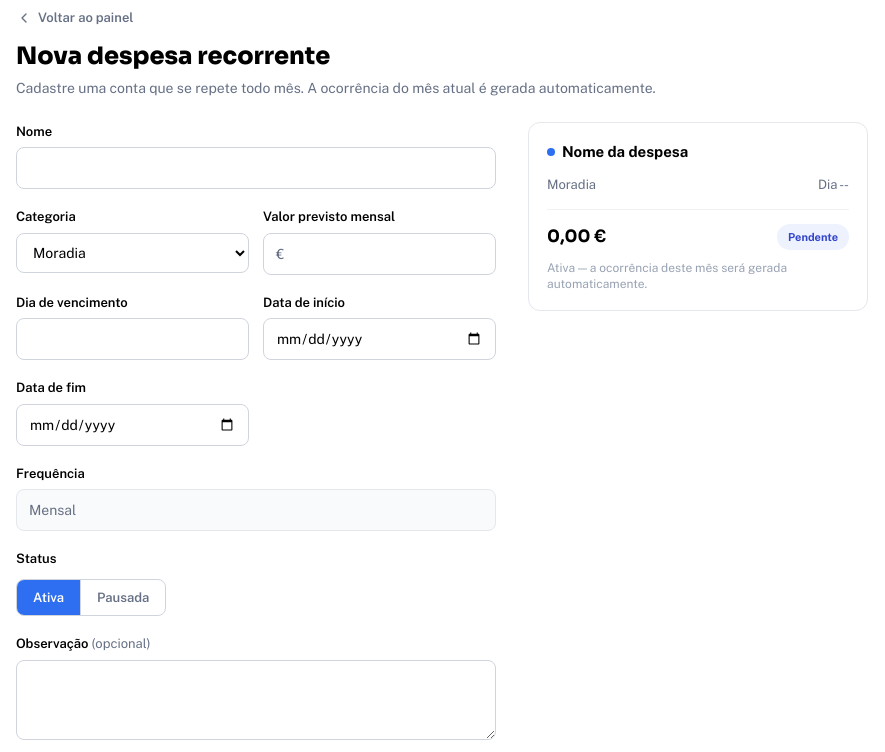
Scenario: CadastroDespesaRecorrenteComponent › populates the nome field inline error from a 400 field-error response (US4-3, FR-016)
Type "Aluguel" into the field with test id "nome-input" at [256, 168], box left=16, top=147, right=496, bottom=189
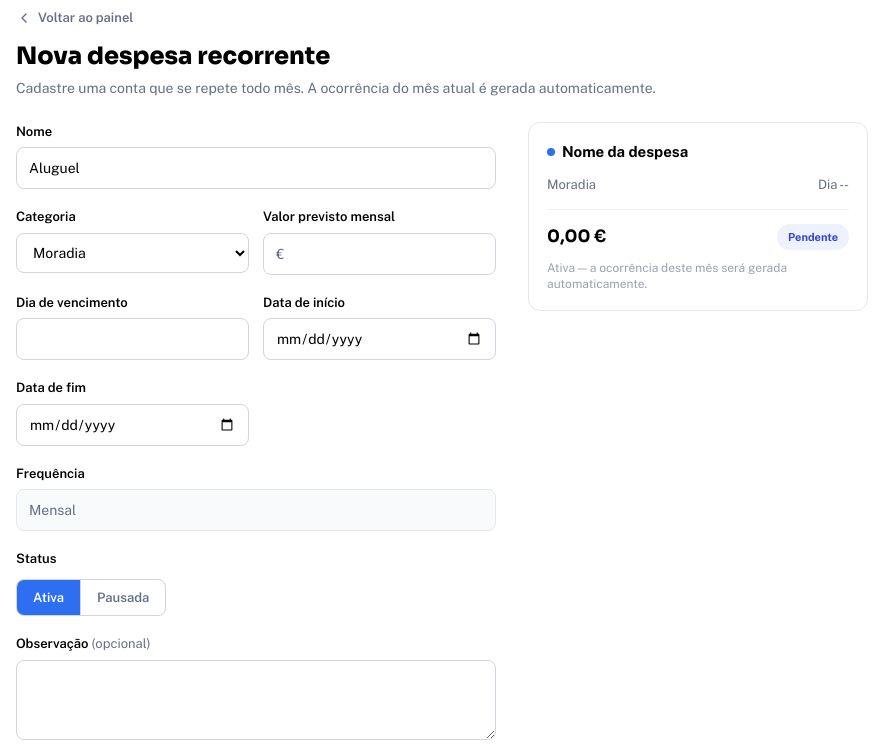
Select "Moradia" in the dropdown with test id "categoria-select" at [132, 252], box left=16, top=232, right=249, bottom=272
Type "1500,50" into the field with test id "valor-input" at [387, 254], box left=290, top=234, right=483, bottom=274
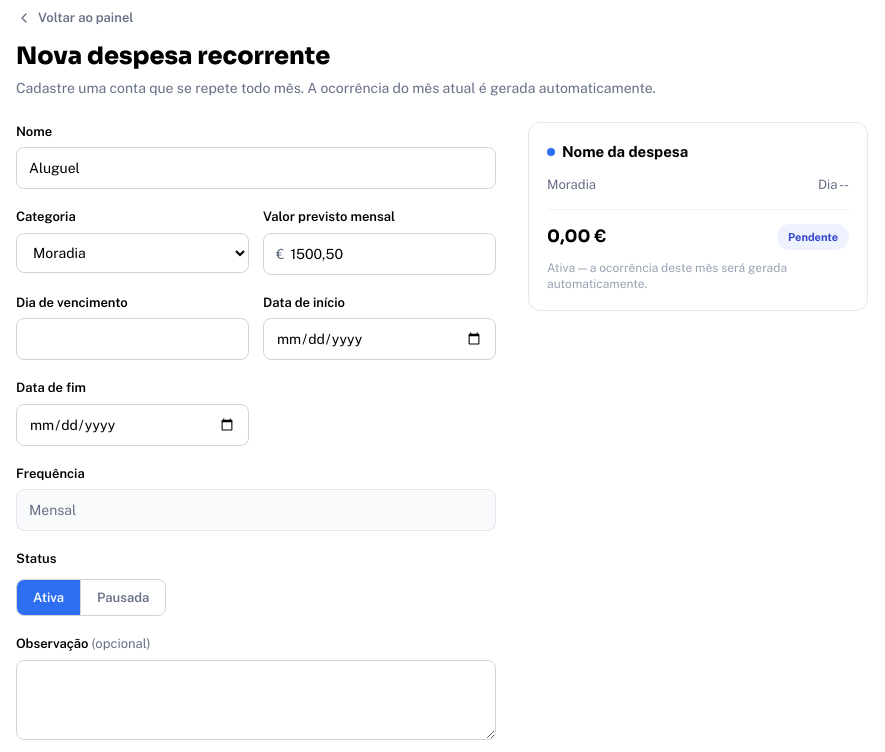
Type "5" into the field with test id "dia-input" at [132, 339], box left=16, top=318, right=249, bottom=360
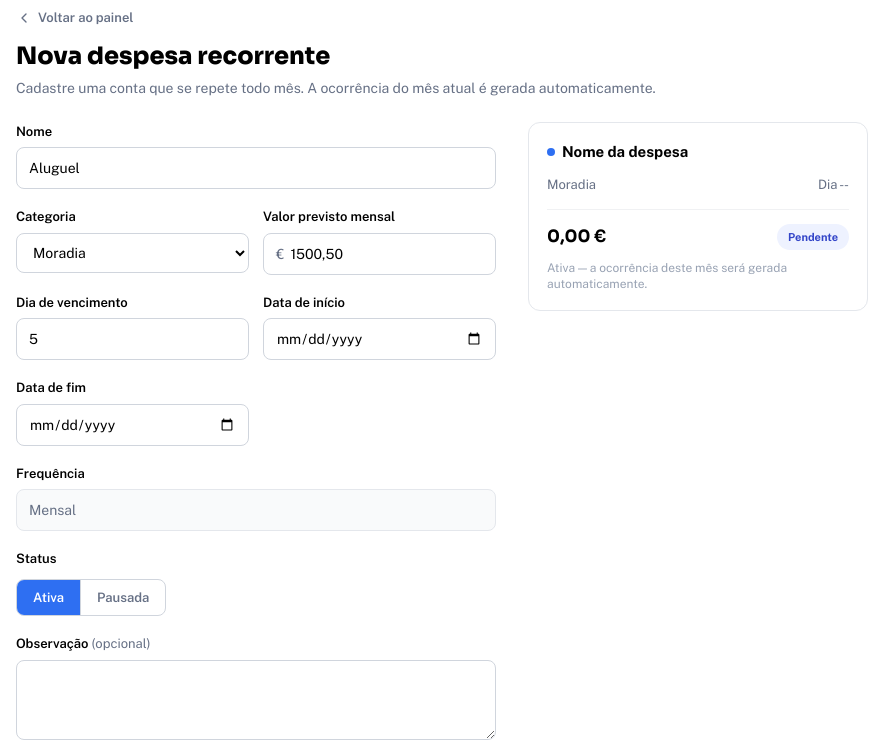
Type "2026-09-01" into the date field with test id "data-inicio-input" at [380, 339], box left=263, top=318, right=496, bottom=360
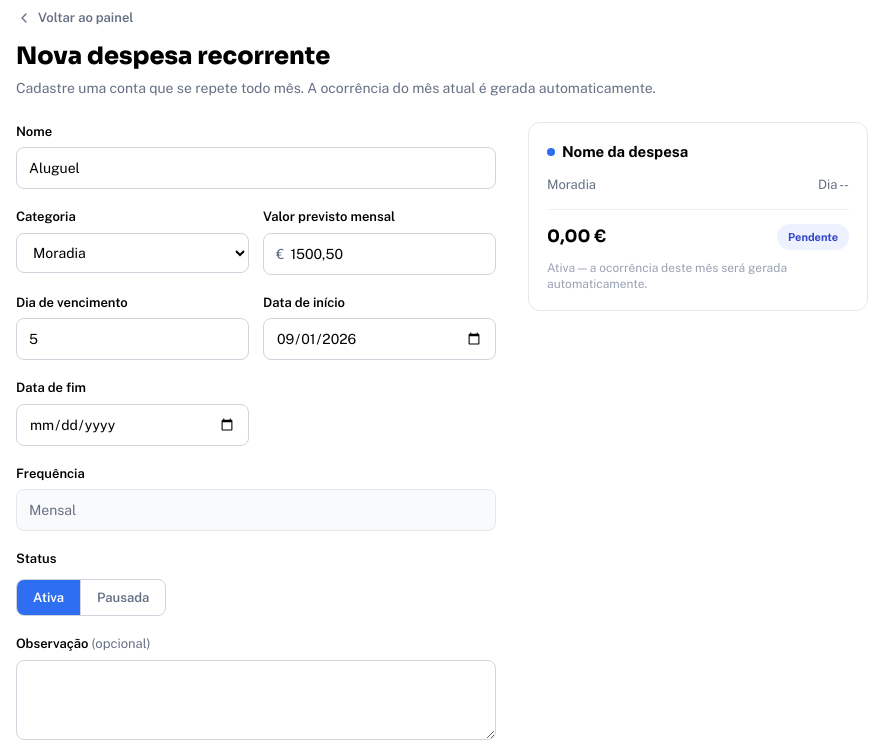
Type "2026-09-30" into the date field with test id "data-fim-input" at [132, 424], box left=16, top=404, right=249, bottom=446
(page scrolled)
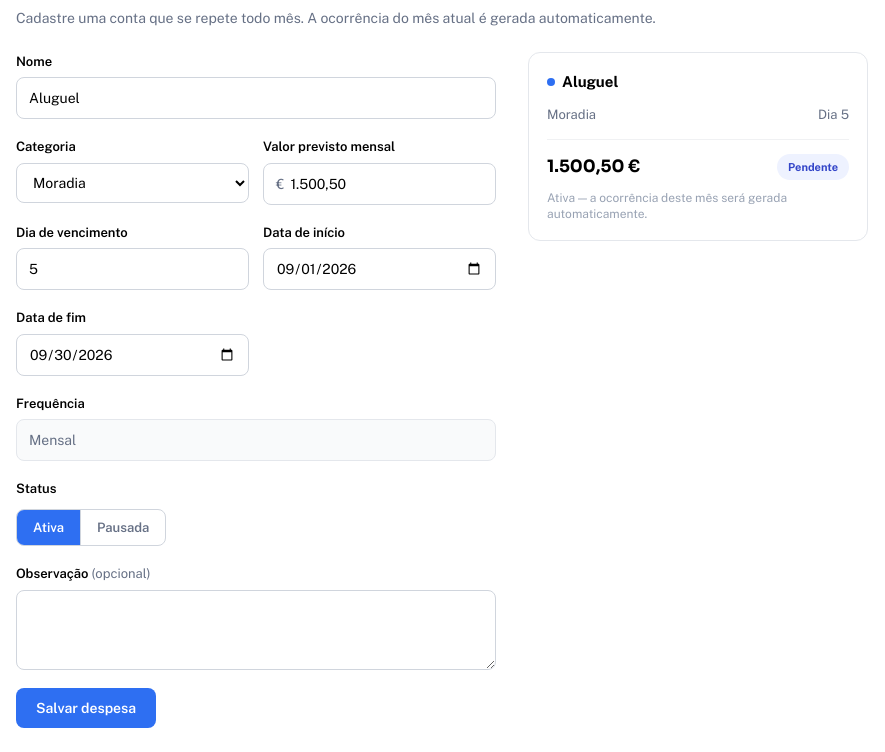
Click the button with test id "salvar-btn" at [86, 708], box left=16, top=688, right=156, bottom=728
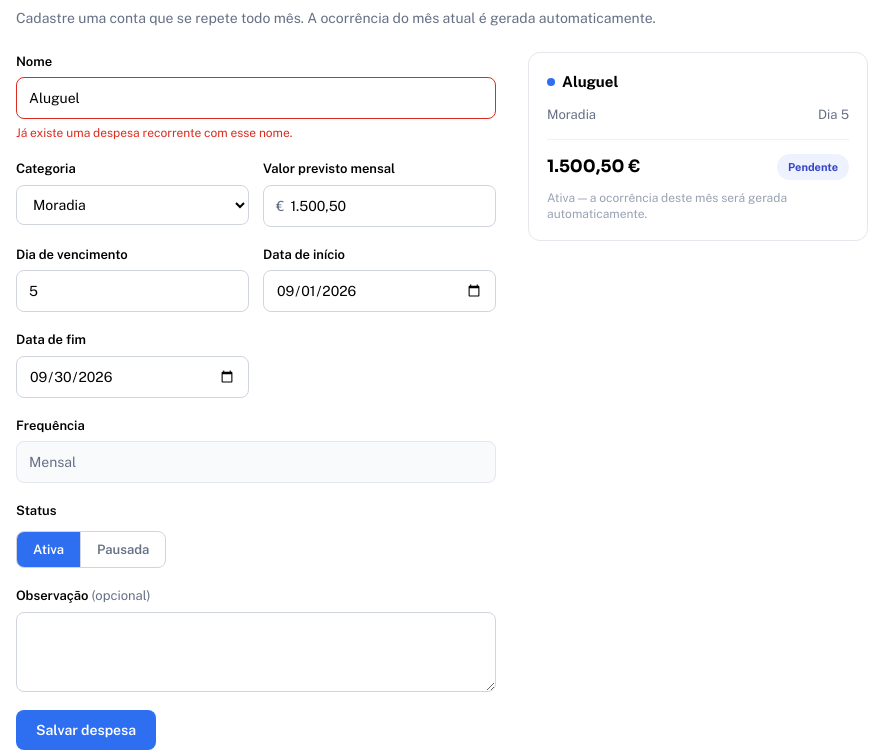
Check: the message with test id "nome-error" reads "Já existe uma despesa recorrente com esse nome.", box left=16, top=126, right=292, bottom=140
